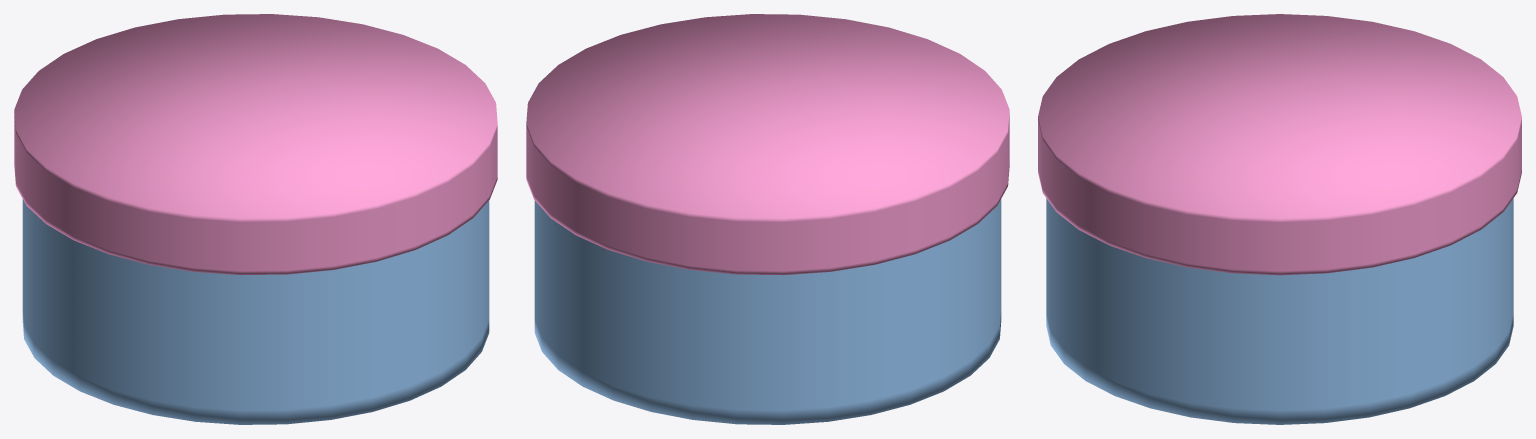
The model's file is soap2.fbx.
The picture shows the model from 3 angles, left to right: view 1: azimuth 30°, elevation 25°; view 2: azimuth 150°, elevation 25°; view 3: azimuth 270°, elevation 25°; orthographic projection.
Parts seen in each view (by area): view 1: soap2; view 2: soap2; view 3: soap2.
Boxes of the visible parts, x1,y1,x2,y2 form: soap2: (14, 14, 497, 424); soap2: (526, 14, 1009, 424); soap2: (1038, 14, 1521, 424).
Bounding box in the file's own units: 64.79 × 31.03 × 64.79.
1 material, 1 textured.
